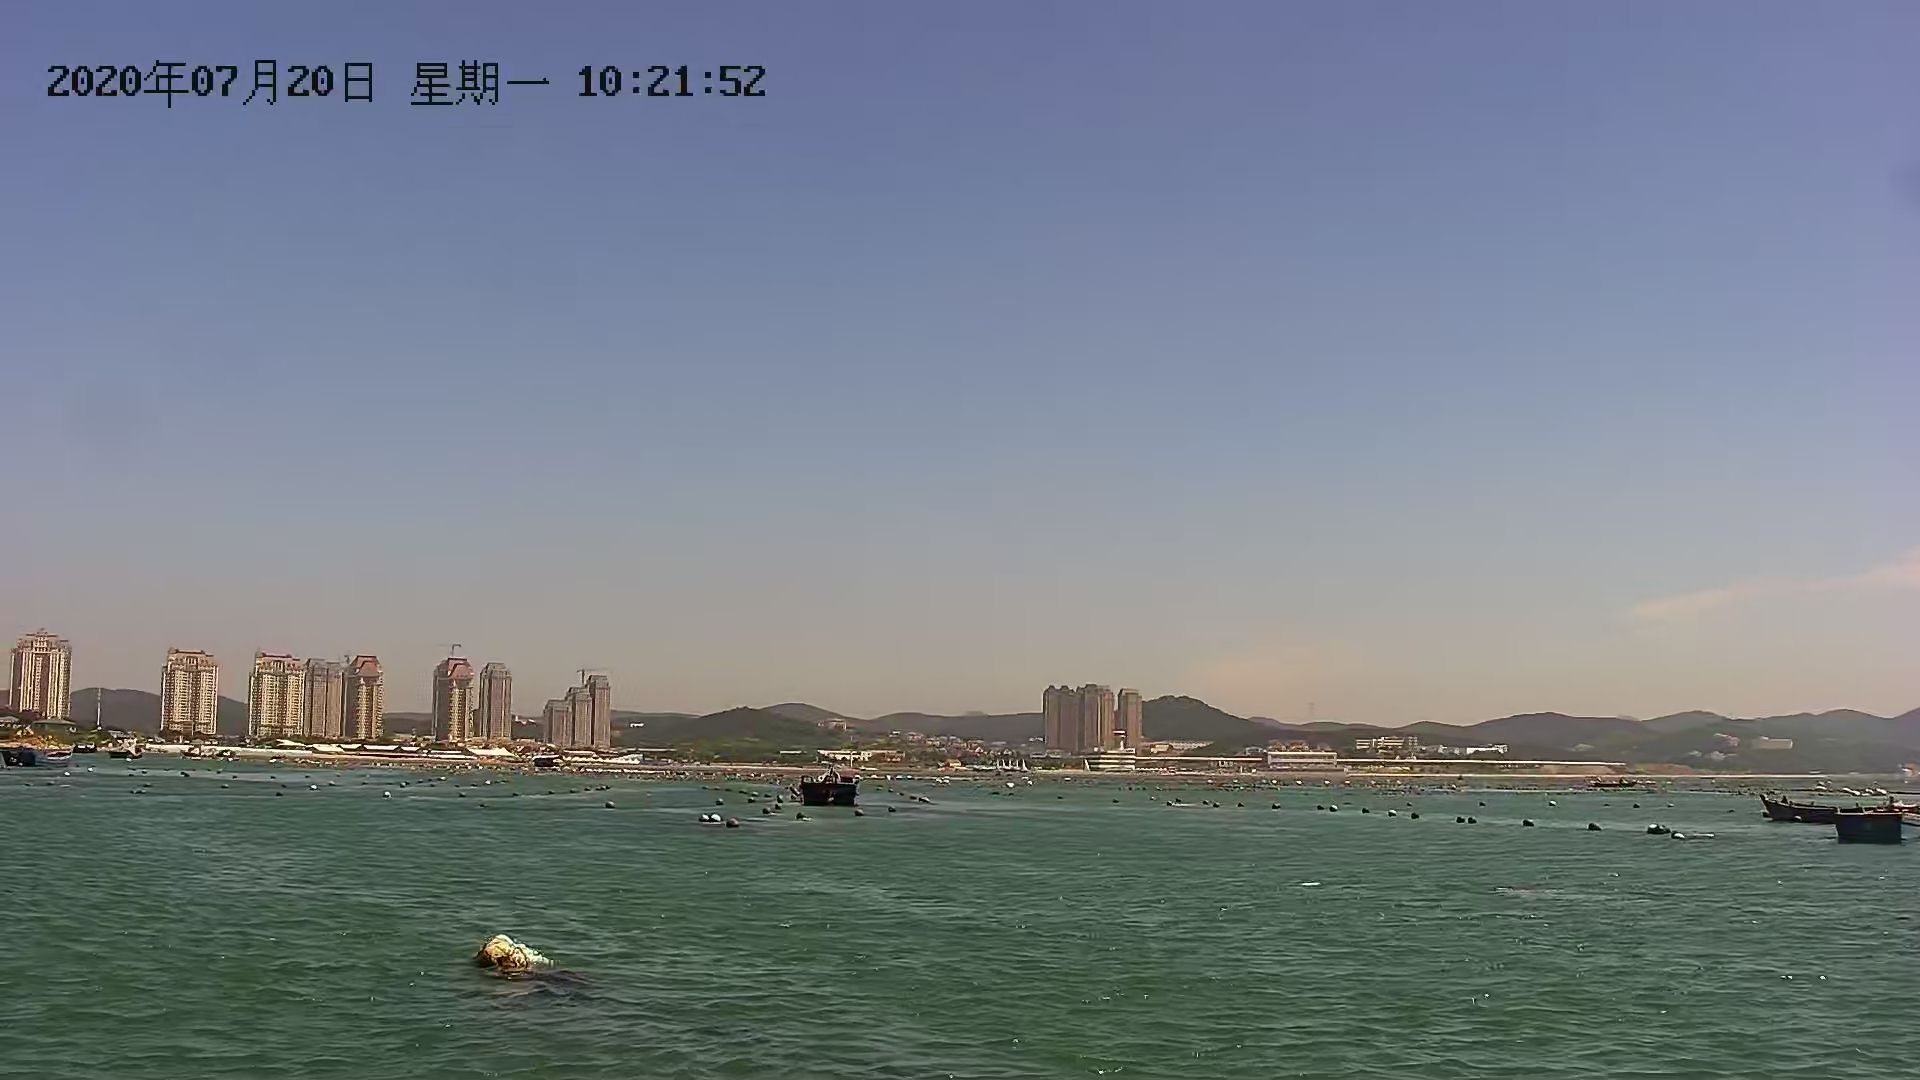boat: (1837, 799, 1920, 851), (790, 760, 872, 811), (1756, 785, 1859, 825)
rubbish: (464, 931, 558, 977)
